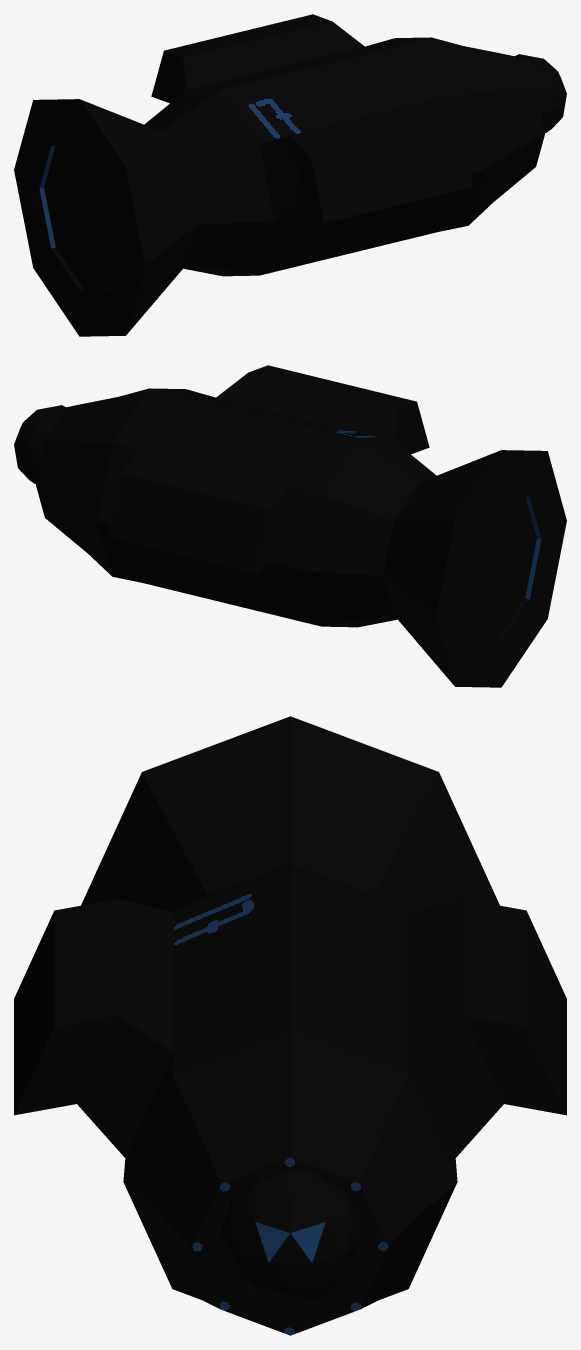
Rendered from mini_mech_base.gltf.
3 views of the same model, one above another, from view 1: azimuth 30°, elevation 25°; view 2: azimuth 150°, elevation 25°; view 3: azimuth 270°, elevation 25° (orthographic). The views are drawn at different scales.
Visible parts, largest first — view 1: Cylinder.001; view 2: Cylinder.001; view 3: Cylinder.001.
Part boxes in pixels (bbox=[...]): Cylinder.001: bbox=[14, 14, 566, 336]; Cylinder.001: bbox=[14, 365, 566, 687]; Cylinder.001: bbox=[14, 716, 566, 1335].
Bounding box in the file's own units: 2.69 × 1.27 × 1.67.
Materials: 1 (1 with a texture image).
